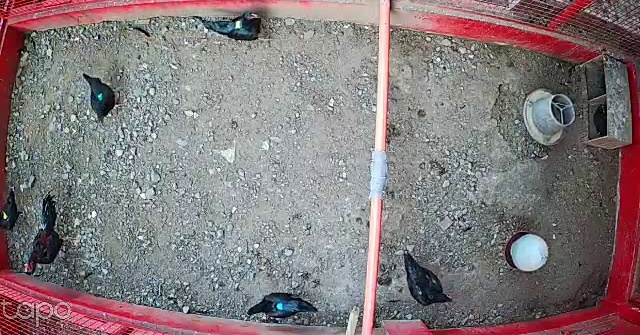Chicken: (403, 243, 456, 308), (200, 11, 272, 48), (241, 289, 320, 322), (84, 68, 125, 129), (0, 190, 26, 233), (235, 19, 244, 29)
Rooster: (25, 195, 74, 278)
Saddle_Color_Blue: (276, 302, 283, 310)
Saddle_Color_Yellow: (2, 209, 8, 222)
